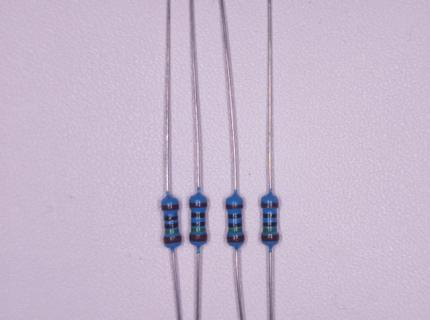Black band: (165, 222, 178, 229), (191, 213, 205, 219), (164, 216, 178, 221), (263, 222, 277, 227), (228, 214, 241, 219), (192, 221, 205, 226), (262, 214, 277, 218), (228, 223, 241, 227)
Brown band: (164, 236, 181, 244), (262, 234, 279, 242), (228, 235, 244, 243), (190, 234, 207, 241), (162, 204, 179, 210), (226, 204, 243, 209), (190, 203, 207, 207), (261, 203, 278, 207)
Green band: (165, 229, 179, 234), (191, 228, 205, 232), (229, 228, 242, 232), (263, 228, 276, 232)
